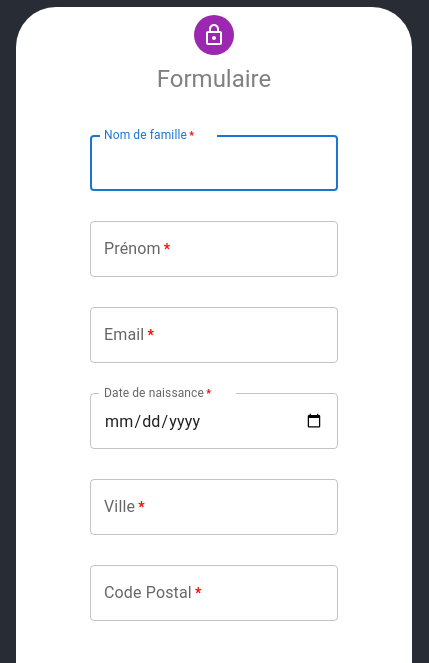
Scenario: Test d'intégration de l'application › verification message erreur
This screenshot has width=429, height=663.
Type "123" into the field labelled "Nom de famille *" at (214, 163), box [90,135,338,191]
Type "456" into the field labelled "Prénom *" at (214, 249), box [90,221,338,277]
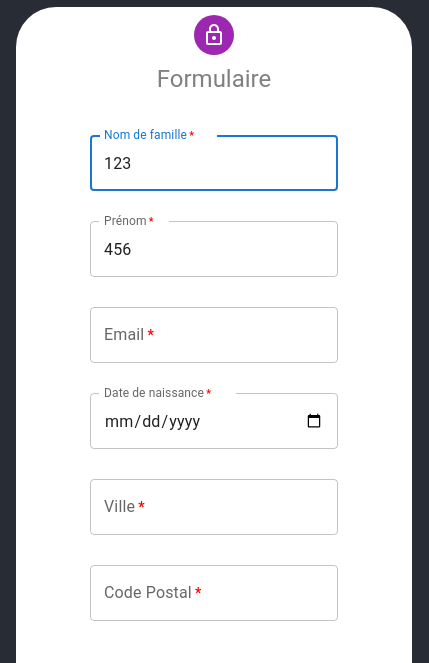
Type "john" into the field labelled "Email *" at (214, 335), box [90,307,338,363]
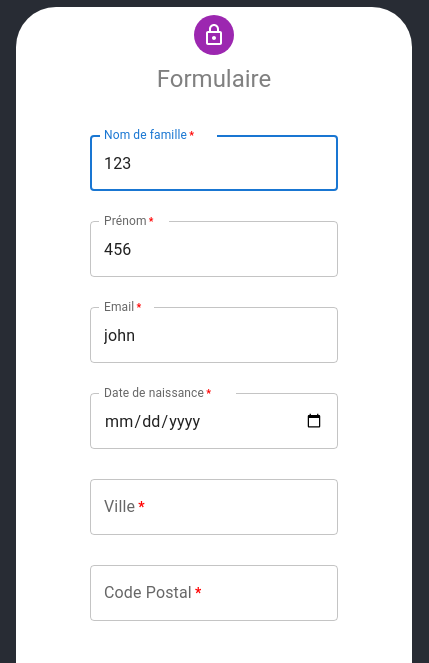
Type "2020-01-01" into the date field labelled "Date de naissance *" at (214, 421), box [90,393,338,449]
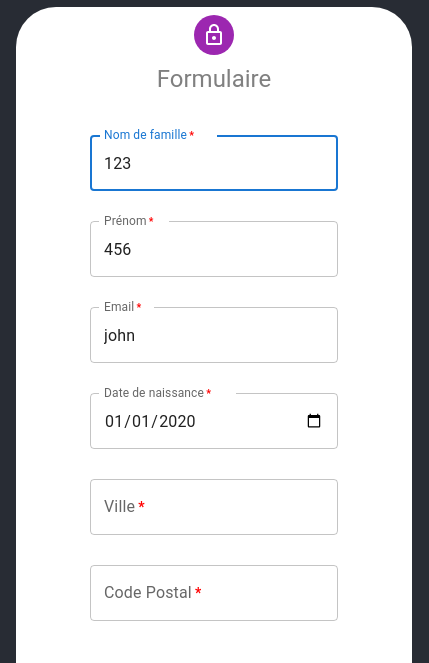
Type "789" into the field labelled "Ville *" at (214, 507), box [90,479,338,535]
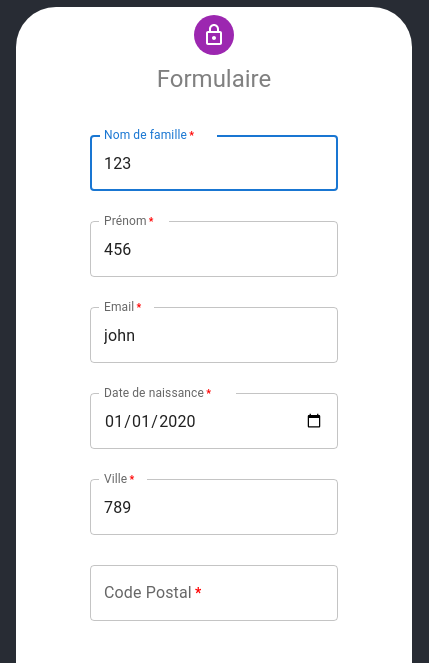
Type "A06250" into the field labelled "Code Postal *" at (214, 593), box [90,565,338,621]
(page scrolled)
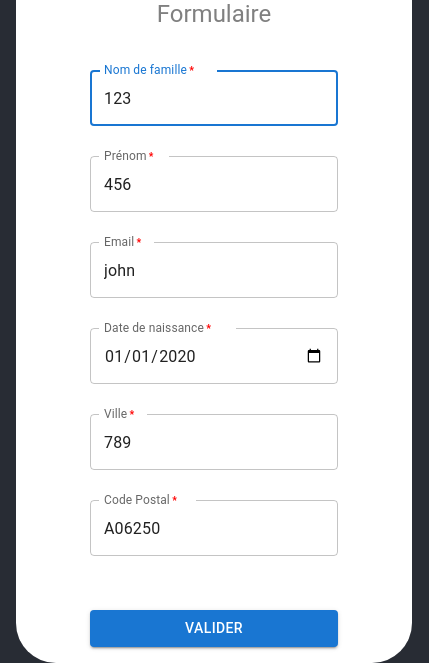
Click the button "Valider" at (214, 628), box [90,610,338,646]
(page scrolled)
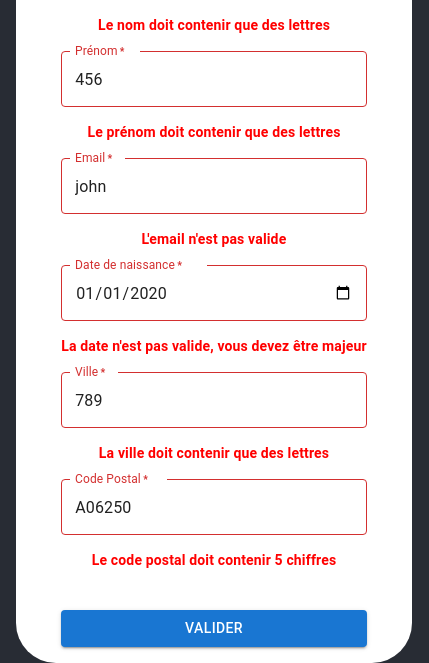
Expected: the text "Le nom doit contenir que des lettres" is shown, [98,17,330,33]
Expected: the text "Le prénom doit contenir que des lettres" is shown, [88,124,340,140]
Expected: the text "L'email n'est pas valide" is shown, [142,231,286,247]
